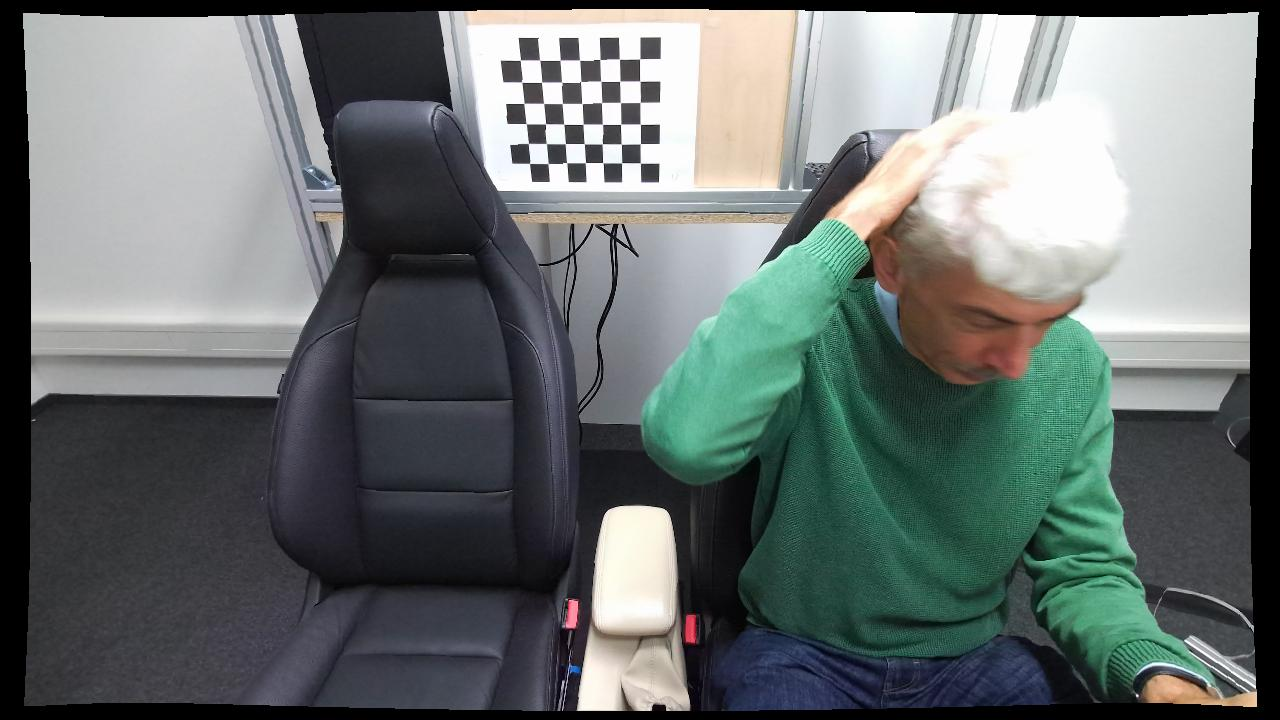Distracted: (630, 92, 1134, 714)
